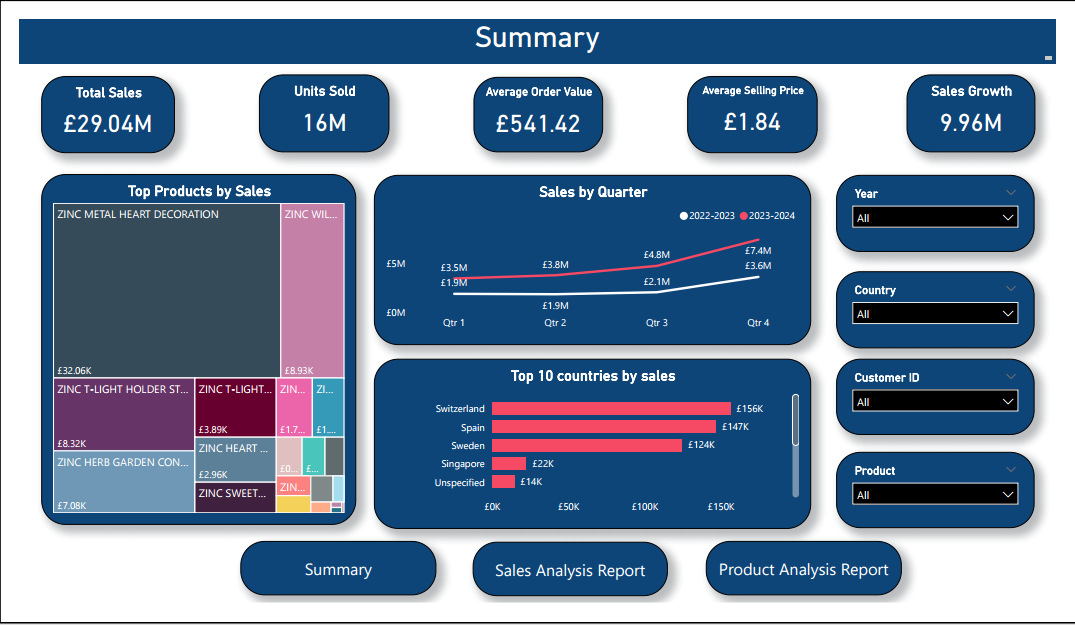

This screenshot's page, from the dashboard's own definition file:
{"tool":"powerbi","page":{"name":"Summary","canvas":[1280,720],"ordinal":0},"visuals":[{"type":"lineChart","title":"Sales by Quarter","fields":{"Y":["Fact_Transactions.Total Sales (FT)"],"Series":["Fact_Transactions.Source Year"],"Category":["Fact_Transactions.InvoiceDate.Variation.Date Hierarchy.Quarter"]},"box":[437.7,192.1,540,210],"z":0},{"type":"card","title":"Total Sales ","fields":{"Values":["Fact_Transactions.Total Sales (FT)"]},"box":[27.4,69.8,164.7,94.7],"z":1000},{"type":"card","title":"Units Sold","fields":{"Values":["Fact_Transactions.Units sold"]},"box":[296.1,68,160.5,96.1],"z":2000},{"type":"card","title":"Average Order Value","fields":{"Values":["Fact_Transactions.AOV"]},"box":[560.5,70.7,160.5,93.3],"z":3000},{"type":"card","title":"Average Selling Price","fields":{"Values":["Fact_Transactions.ASP"]},"box":[825,70.3,160.5,94.7],"z":4000},{"type":"card","title":"Sales Growth","fields":{"Values":["Fact_Transactions.Sales Growth (£)"]},"box":[1095.7,68.5,159,95.4],"z":5000},{"type":"actionButton","box":[559.9,644.9,241.5,67.2],"z":6000},{"type":"actionButton","box":[848,643.6,241.5,67.2],"z":7000},{"type":"textbox","title":"Summary","box":[0,0,1280.3,55],"z":8000},{"type":"treemap","title":"Top Products by Sales","fields":{"Group":["Fact_Transactions.Description"],"Values":["Fact_Transactions.Total Sales (FT)"]},"box":[27.4,190.7,388.3,433.6],"z":9000},{"type":"clusteredBarChart","title":"Top 10 countries by sales","fields":{"Category":["Fact_Transactions.Country"],"Y":["Fact_Transactions.Total Sales (FT)"]},"box":[437.7,418.5,540,210],"z":10000},{"type":"slicer","fields":{"Values":["Fact_Transactions.Source Year"]},"box":[1008.6,192.1,245.6,94.7],"z":11000},{"type":"slicer","fields":{"Values":["Fact_Transactions.Country"]},"box":[1008.6,311.5,245.6,94.7],"z":12000},{"type":"slicer","fields":{"Values":["Fact_Transactions.Customer ID"]},"box":[1008.6,418.5,245.6,94.7],"z":13000},{"type":"slicer","fields":{"Values":["Fact_Transactions.Description"]},"box":[1008.6,533.8,245.6,94.7],"z":14000},{"type":"actionButton","box":[273.1,643.6,241.5,67.2],"z":15000}]}

Visuals, with their boxes in screenshot pixels (x1, y1, x2, y2):
"Sales by Quarter" lineChart: [x1=372, y1=170, x2=803, y2=338]
"Total Sales " card: [x1=44, y1=73, x2=176, y2=148]
"Units Sold" card: [x1=259, y1=71, x2=387, y2=148]
"Average Order Value" card: [x1=470, y1=73, x2=598, y2=148]
"Average Selling Price" card: [x1=681, y1=73, x2=810, y2=149]
"Sales Growth" card: [x1=898, y1=72, x2=1025, y2=148]
actionButton: [x1=470, y1=532, x2=663, y2=586]
actionButton: [x1=700, y1=531, x2=893, y2=585]
"Summary" textbox: [x1=22, y1=17, x2=1045, y2=61]
"Top Products by Sales" treemap: [x1=44, y1=169, x2=354, y2=516]
"Top 10 countries by sales" clusteredBarChart: [x1=372, y1=351, x2=803, y2=519]
slicer - Fact_Transactions.Source Year: [x1=828, y1=170, x2=1024, y2=246]
slicer - Fact_Transactions.Country: [x1=828, y1=266, x2=1024, y2=341]
slicer - Fact_Transactions.Customer ID: [x1=828, y1=351, x2=1024, y2=427]
slicer - Fact_Transactions.Description: [x1=828, y1=443, x2=1024, y2=519]
actionButton: [x1=241, y1=531, x2=433, y2=585]
